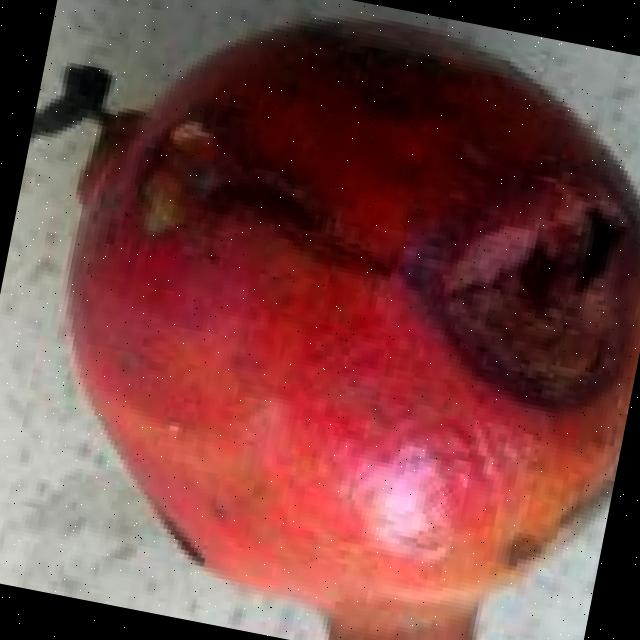Bad_Pomegranate-0-1-day: (28, 18, 640, 640)
